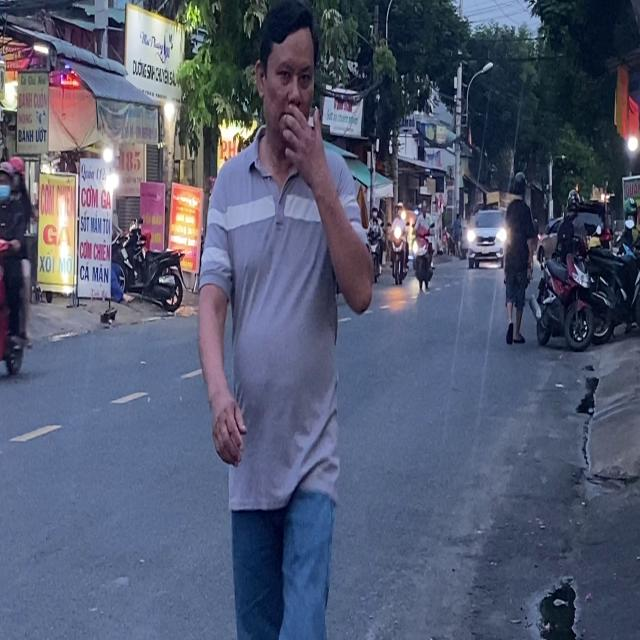helmet: (0, 158, 13, 200), (9, 156, 25, 186)
licenseplate: (0, 155, 35, 385)
